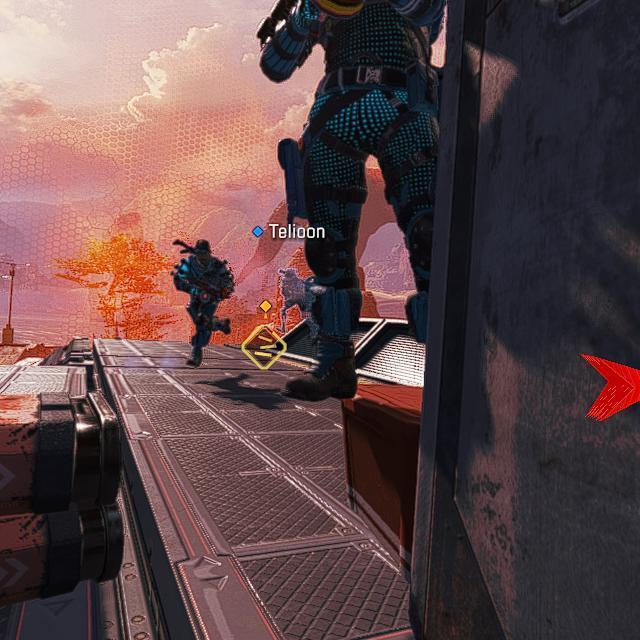avatar: (174, 238, 235, 366), (273, 265, 305, 337)
